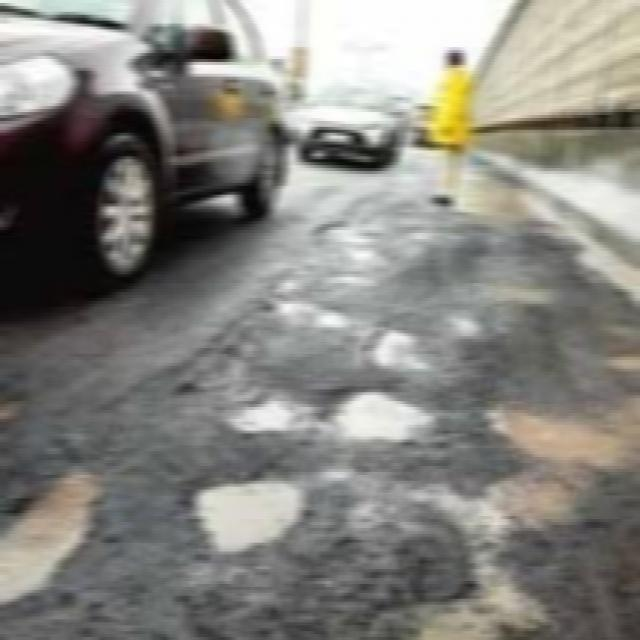Pothole: (463, 395, 640, 529), (0, 444, 113, 608), (182, 472, 314, 566), (314, 189, 493, 249), (390, 576, 551, 640), (258, 262, 370, 339), (327, 380, 437, 449), (197, 388, 325, 442), (348, 312, 444, 377)
